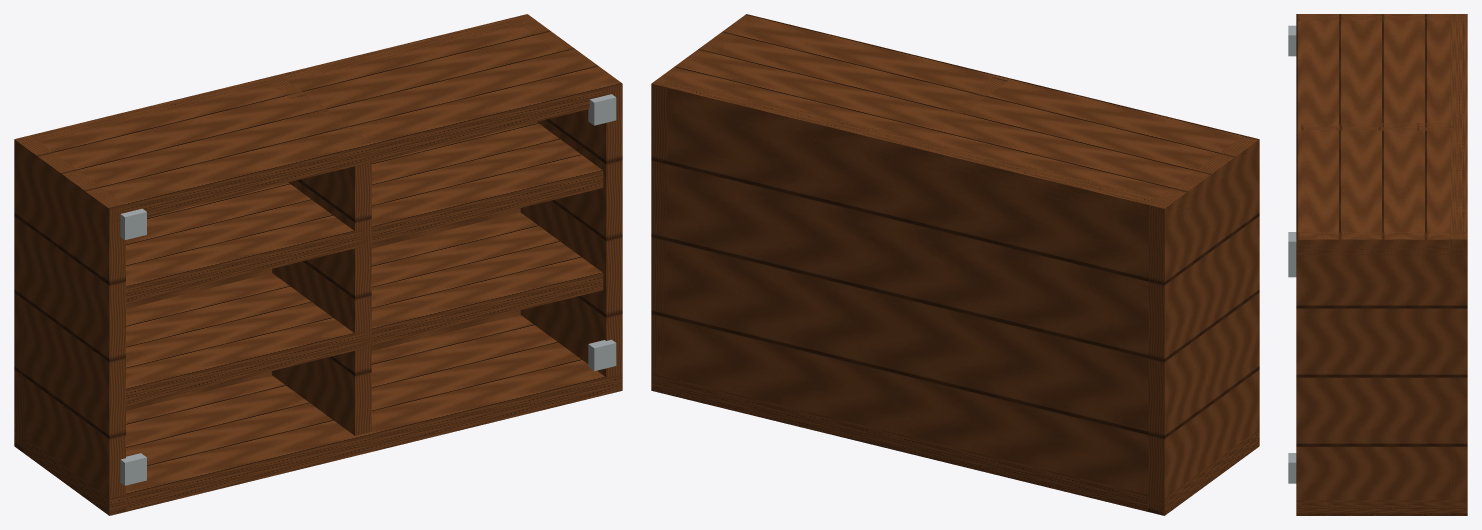
File: suburban-outbreak-interiors-sideboard-open-carcass-7235dcaa__19962.glb
The picture shows the model from 3 angles, left to right: view 1: azimuth 30°, elevation 25°; view 2: azimuth 150°, elevation 25°; view 3: azimuth 270°, elevation 25°; orthographic projection. The views are drawn at different scales.
Visible parts, largest first — view 1: sideboard-open-carcass; view 2: sideboard-open-carcass; view 3: sideboard-open-carcass.
Part boxes in pixels (<box>): sideboard-open-carcass: <box>14,14,622,515</box>; sideboard-open-carcass: <box>651,14,1259,515</box>; sideboard-open-carcass: <box>1288,14,1467,515</box>.
Bounding box in the file's own units: 1.4 × 0.8001 × 0.471.
Materials: 2 (1 with a texture image).
